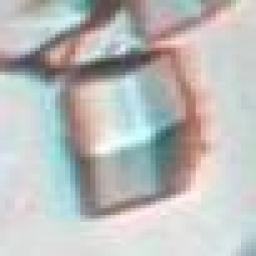crystals: (57, 43, 200, 222)
